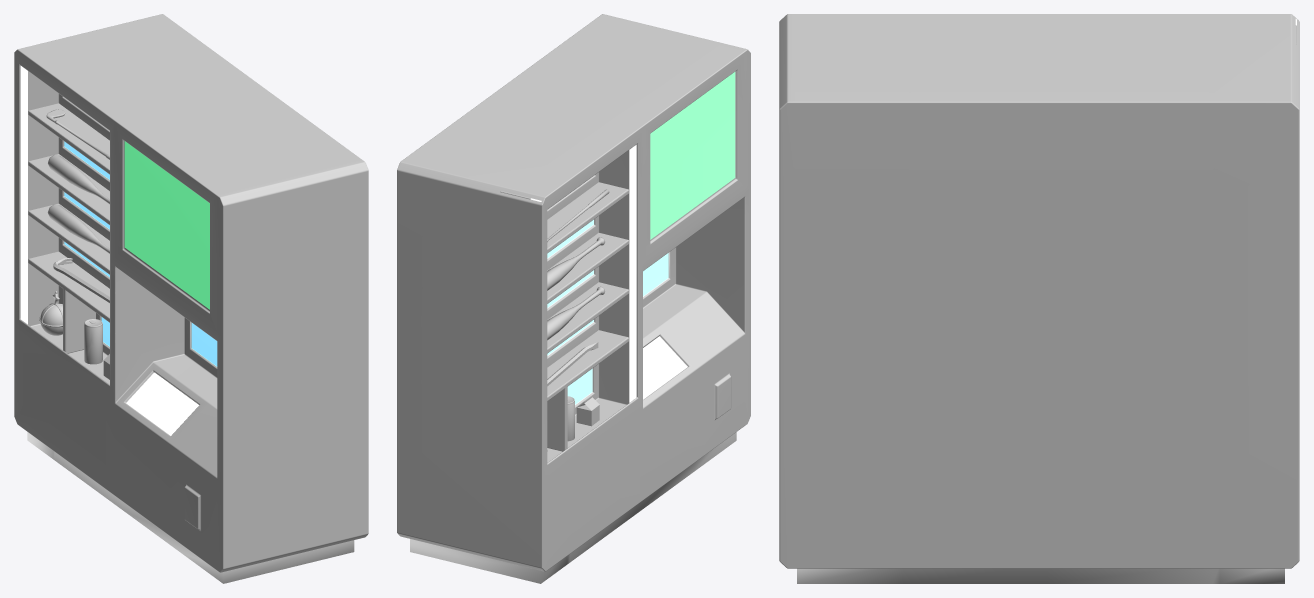
File: vendingMachine.fbx
3 views of the same model, side by side, from view 1: azimuth 30°, elevation 25°; view 2: azimuth 150°, elevation 25°; view 3: azimuth 270°, elevation 25° (orthographic). The views are drawn at different scales.
Visible parts, largest first — view 1: vendingMachine; view 2: vendingMachine; view 3: vendingMachine.
Part boxes in pixels (left/top/right/bottom): vendingMachine: left=14, top=14, right=368, bottom=583; vendingMachine: left=397, top=14, right=750, bottom=583; vendingMachine: left=779, top=14, right=1299, bottom=583.
Size of the model in its own units: 139 by 349 by 339.
